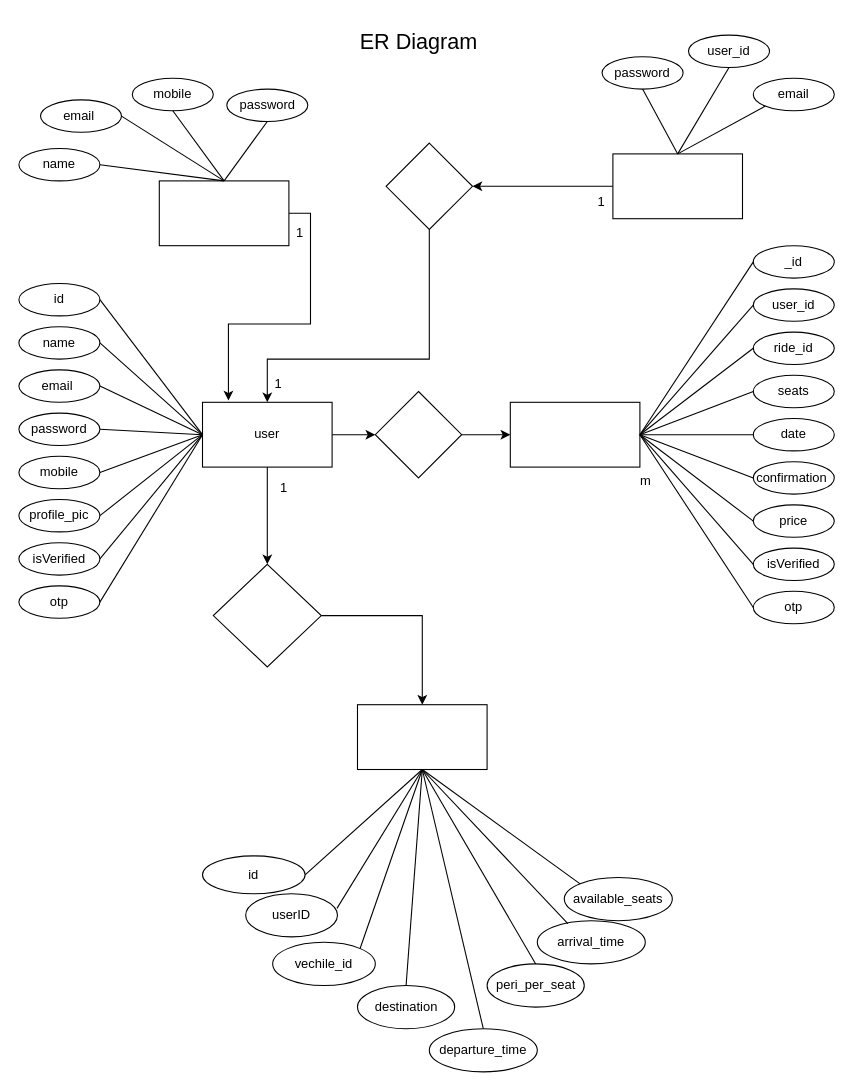
The diagram is 853 pixels wide and 1091 high, and some of its shapes have lost their labels. Here are the shapes that lost their labels. From the top down, the centre of each, then its label:
At point 429,186: "user can Login".
At point 677,186: "login".
At point 223,213: "Registration".
At point 418,434: "user can book".
At point 574,434: "booking".
At point 266,615: "User can create a ride".
At point 421,737: "ride".
